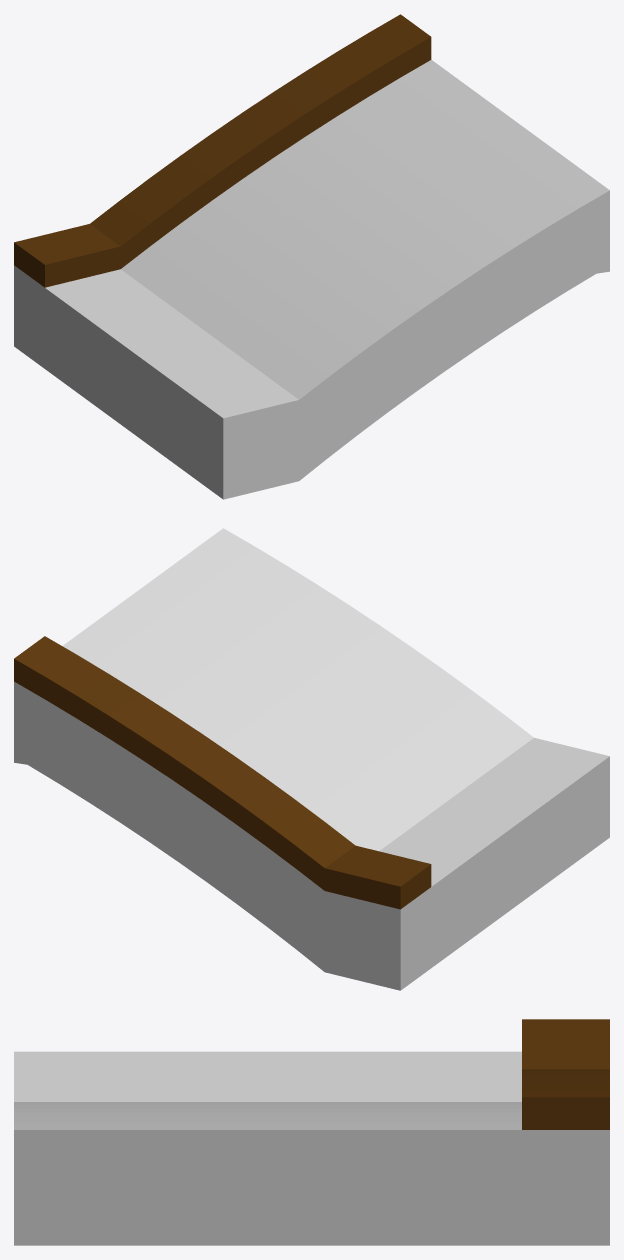
Rendered from groundUp.fbx.
The picture shows the model from 3 angles, top to bottom: view 1: azimuth 30°, elevation 25°; view 2: azimuth 150°, elevation 25°; view 3: azimuth 270°, elevation 25°; orthographic projection. The views are drawn at different scales.
Visible parts, largest first — view 1: Cube.007, Wall.002; view 2: Cube.007, Wall.002; view 3: Cube.007, Wall.002.
Part boxes in pixels (x1,y1,x2,y2): Cube.007: [14, 60, 609, 499]; Wall.002: [14, 14, 431, 287]; Cube.007: [14, 528, 609, 990]; Wall.002: [14, 636, 431, 909]; Cube.007: [14, 1051, 609, 1245]; Wall.002: [522, 1019, 609, 1129].
Size of the model in its own units: 213 by 125 by 200.
